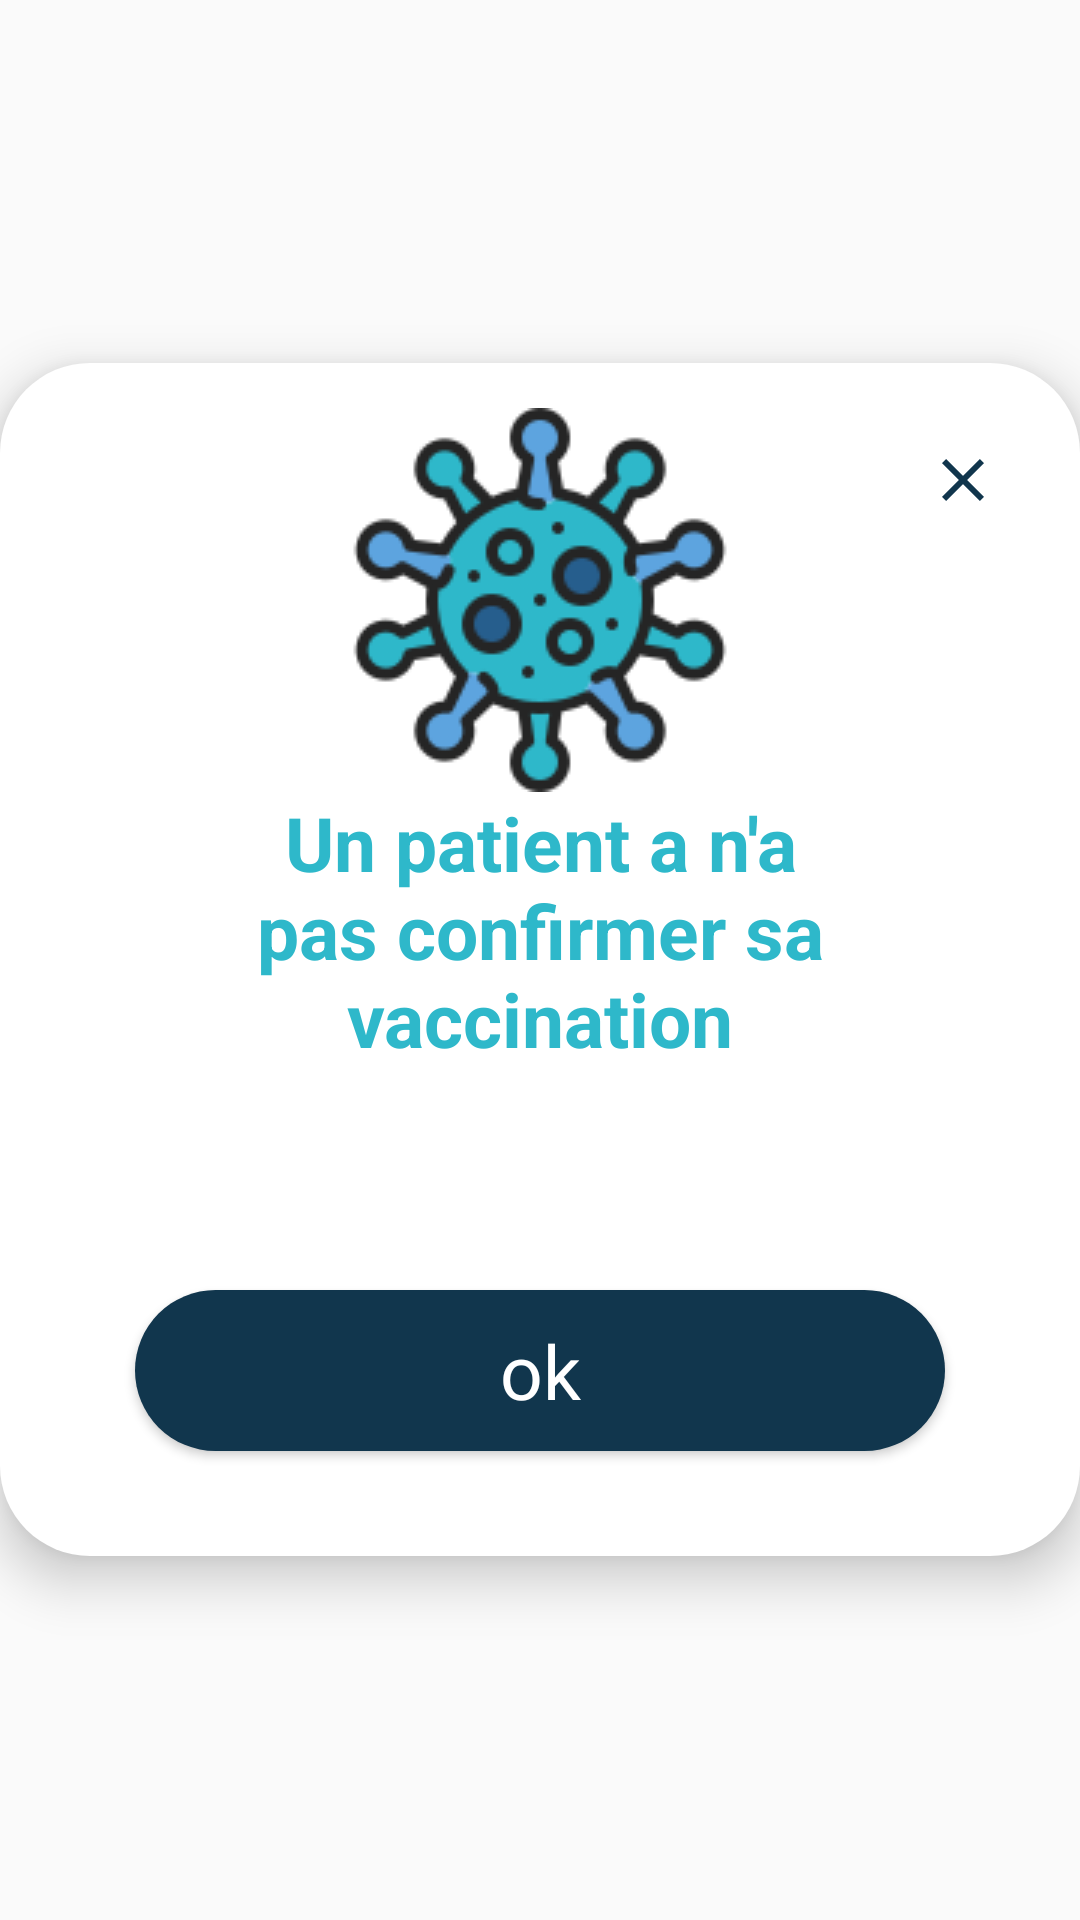

Screen size 1080px×1920px. Icon name, then its center in pixels as [x,y]:
close: [963,480]
